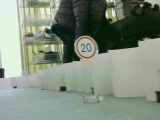speed_20: (72, 34, 99, 60)
